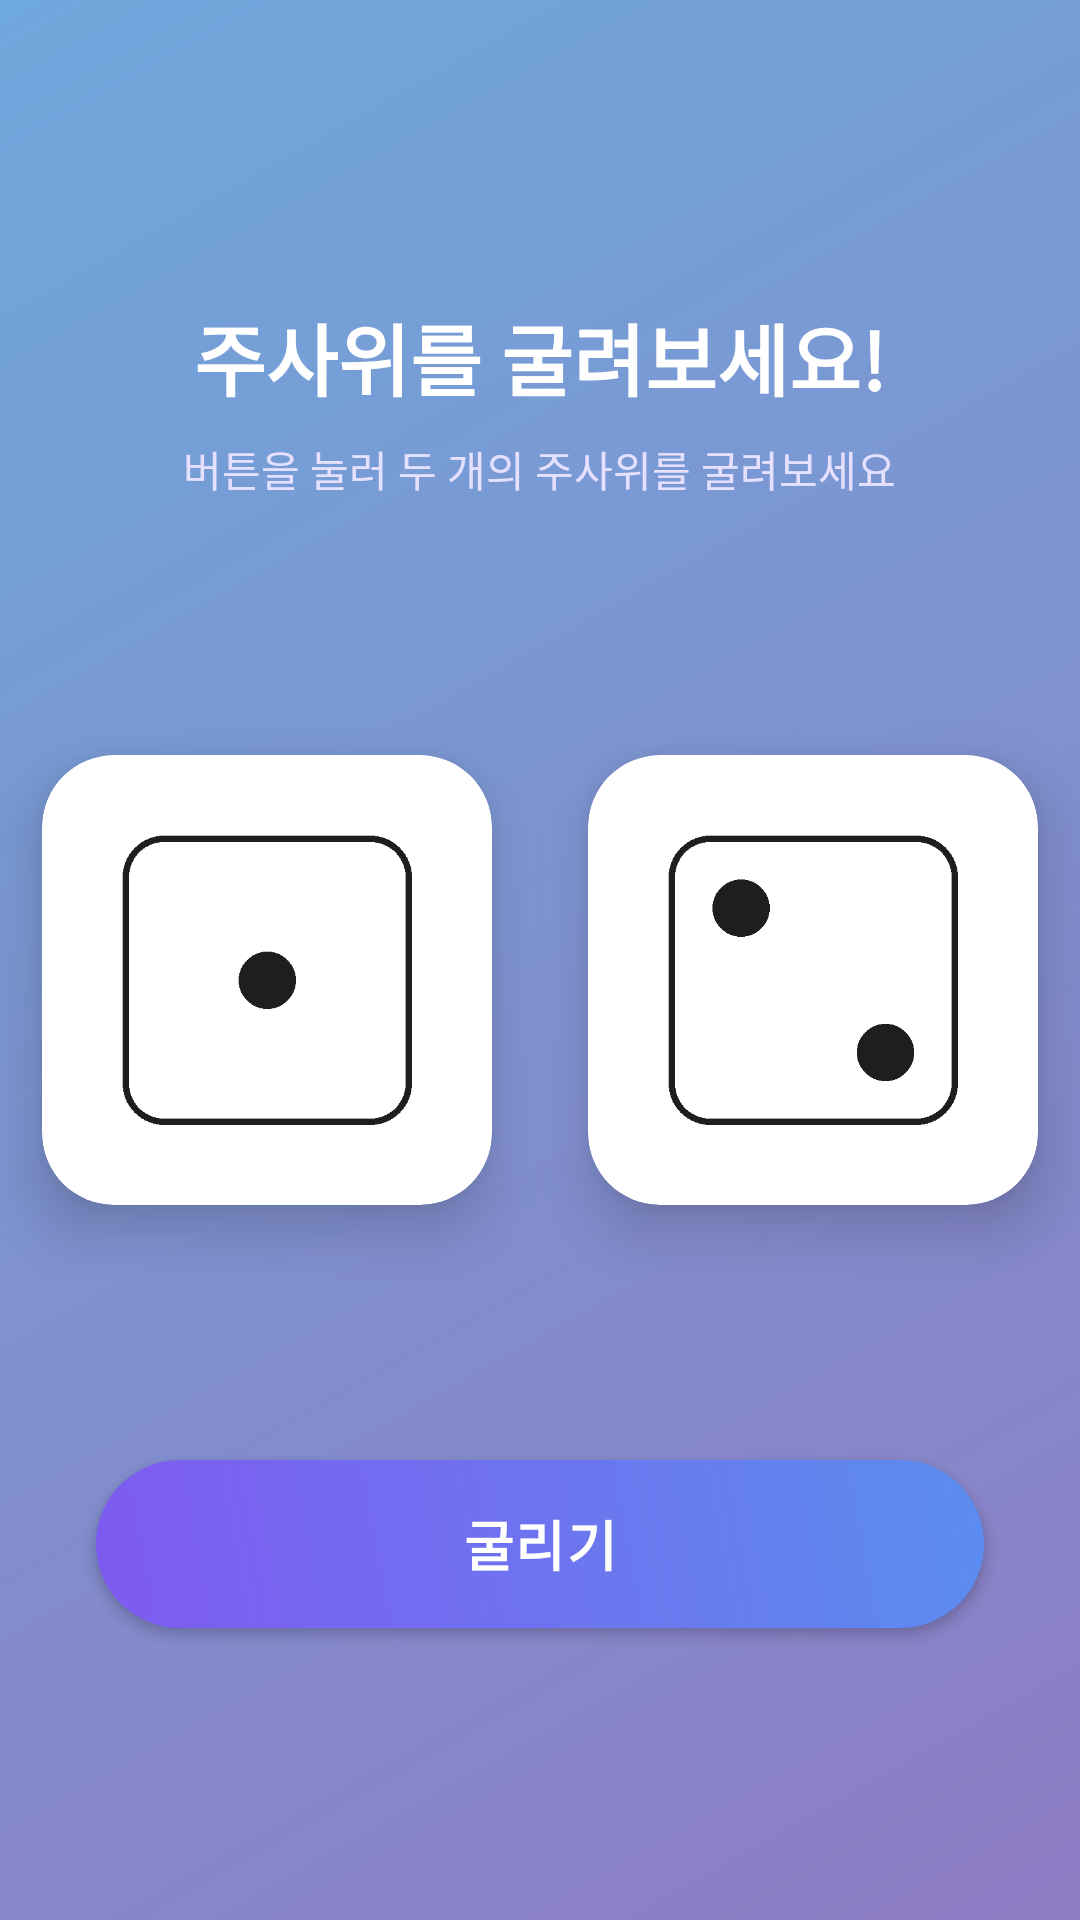

Screen size 1080x1920. Icon name, then its box in pixels as (x1, y1, x2, y2):
dice: (122, 835, 412, 1125), (668, 835, 958, 1125)
